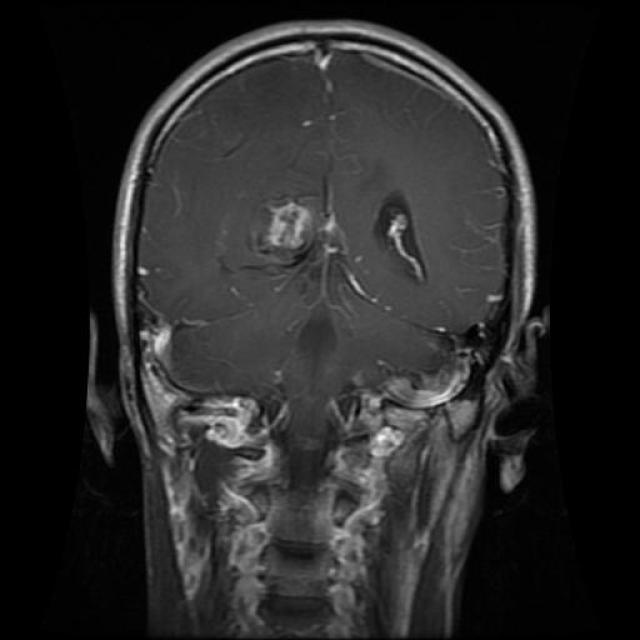glioma: (252, 186, 433, 289)
